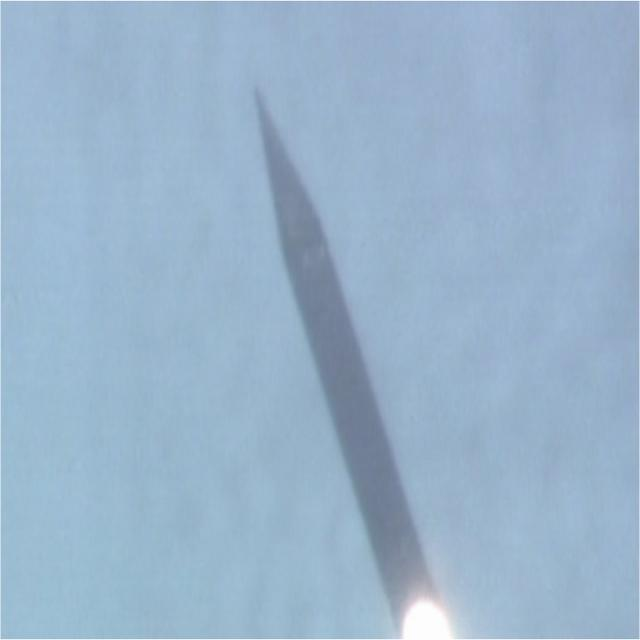Missile: (228, 67, 473, 640)
